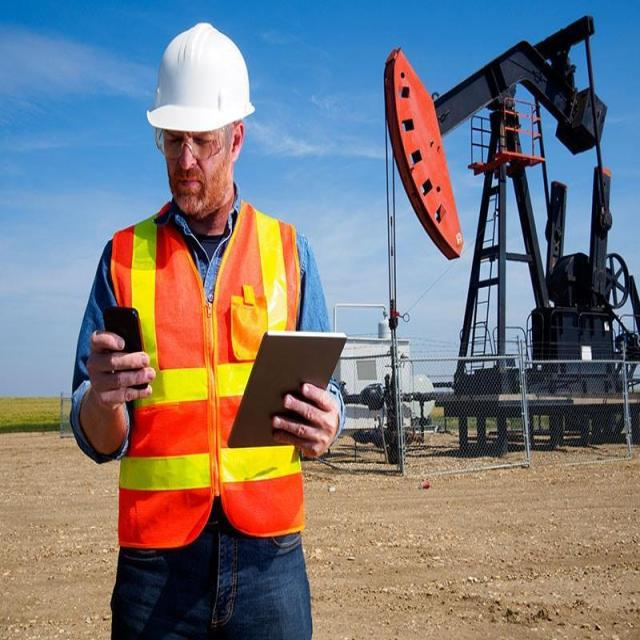helmet: (142, 16, 257, 153)
vest: (96, 200, 320, 537)
